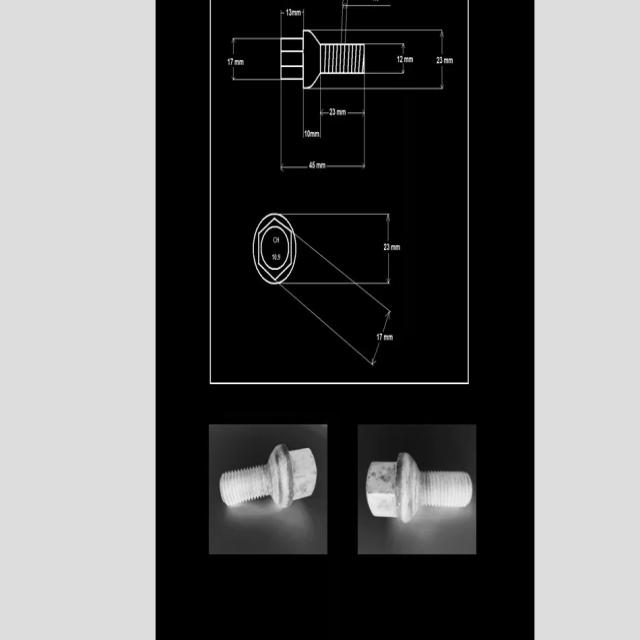marking_line: (280, 91, 369, 171), (297, 212, 390, 287), (366, 28, 444, 92), (340, 1, 445, 43), (302, 90, 368, 142), (319, 77, 368, 139), (229, 36, 280, 84), (277, 81, 302, 171), (365, 310, 393, 369), (365, 42, 407, 76), (232, 36, 280, 55), (231, 66, 280, 82), (279, 10, 302, 37), (279, 8, 305, 30)
numeric: (439, 55, 444, 65), (436, 55, 440, 65), (306, 129, 310, 138), (332, 108, 336, 117), (309, 160, 312, 170), (384, 241, 387, 251), (380, 332, 383, 342), (230, 57, 233, 66), (400, 54, 403, 63), (387, 242, 390, 251), (286, 9, 289, 17), (304, 130, 307, 138), (312, 161, 315, 169), (274, 254, 277, 262), (227, 59, 230, 66), (289, 9, 292, 16), (277, 254, 280, 261), (377, 332, 379, 342), (272, 252, 274, 262), (330, 108, 332, 116), (397, 55, 399, 63)
